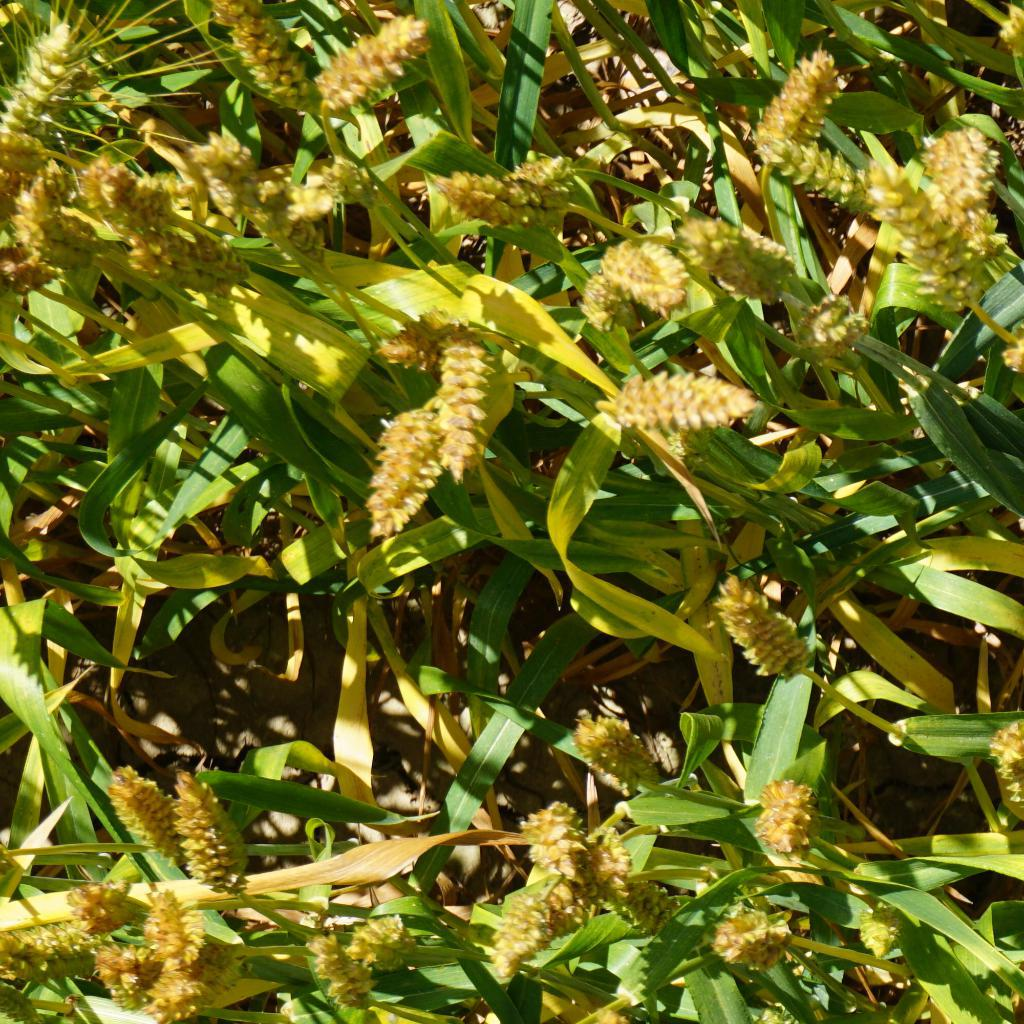0-0: (875, 165, 980, 320), (425, 312, 510, 478), (739, 39, 839, 180), (308, 8, 440, 113), (349, 408, 448, 546), (579, 366, 766, 438), (707, 573, 821, 690), (190, 0, 307, 108), (676, 209, 797, 313), (0, 15, 97, 144), (427, 161, 583, 238), (164, 769, 268, 883), (775, 138, 898, 228), (918, 102, 1001, 215), (114, 217, 224, 297), (569, 706, 663, 793), (17, 168, 107, 252), (596, 225, 683, 311), (494, 150, 585, 224), (489, 891, 556, 990), (3, 916, 99, 985), (236, 169, 311, 257), (752, 777, 825, 865), (709, 896, 792, 971), (516, 802, 603, 873), (329, 900, 414, 972), (292, 929, 363, 1011), (89, 156, 183, 215), (111, 769, 176, 854), (0, 243, 82, 310), (69, 871, 153, 934), (609, 871, 686, 937), (129, 968, 218, 1024), (793, 296, 861, 369), (141, 896, 215, 963), (185, 131, 259, 192), (311, 161, 393, 215), (539, 862, 602, 932), (81, 939, 156, 996), (379, 307, 435, 373), (990, 716, 1024, 811), (581, 817, 627, 881), (858, 897, 904, 961), (572, 278, 629, 326), (0, 148, 31, 219), (570, 1007, 676, 1024), (998, 0, 1024, 66), (993, 320, 1024, 374), (753, 996, 811, 1024)
